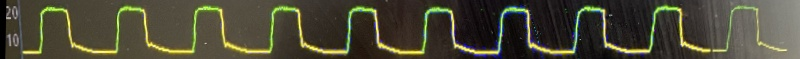normal_pressure: (17, 0, 800, 59)
